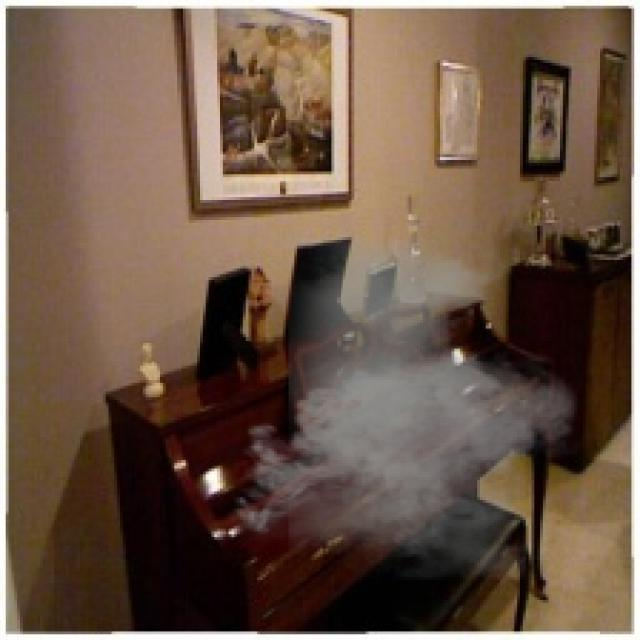Smoke: (223, 235, 592, 580)
